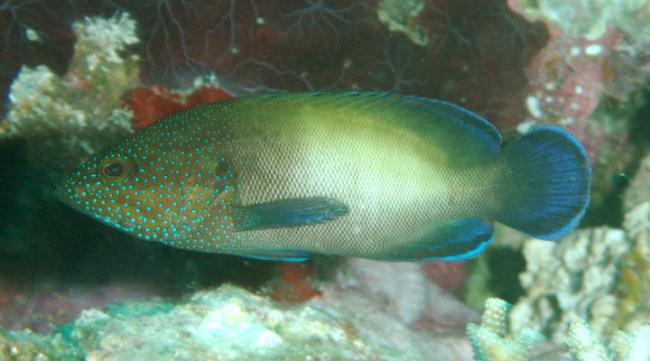fish: (57, 90, 594, 263)
